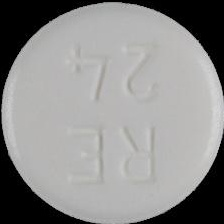63304-626: (0, 0, 224, 224)
